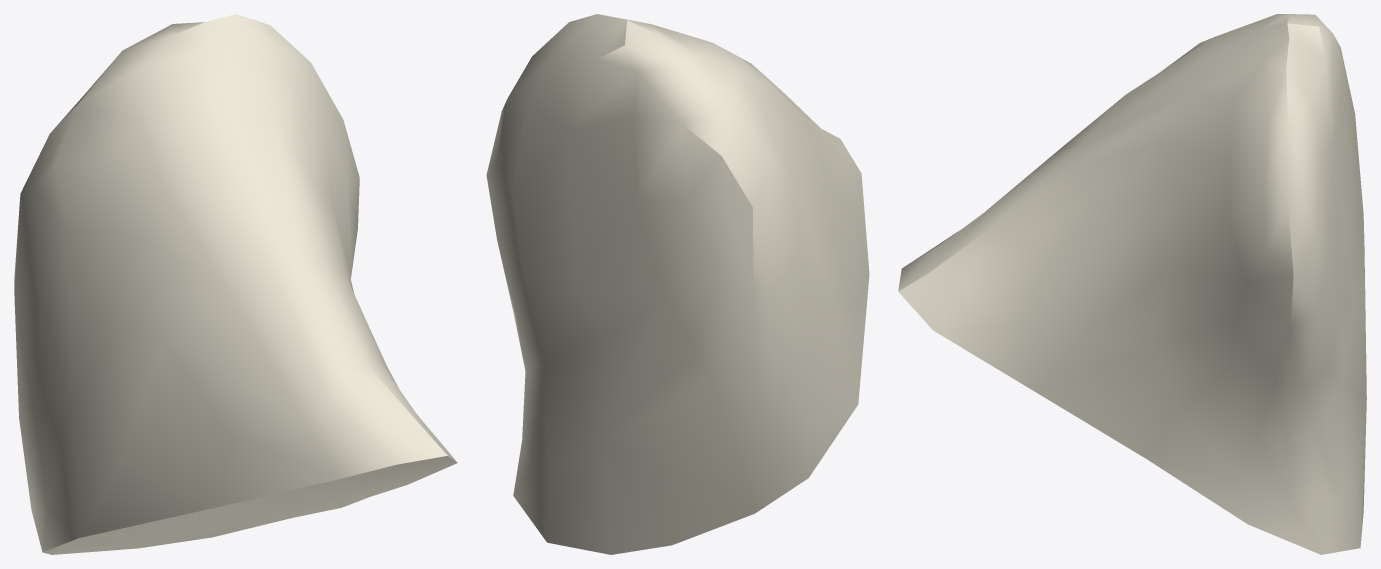
File: fma12121_mm2388.glb
3 renders of one model, left to right at view 1: azimuth 30°, elevation 25°; view 2: azimuth 150°, elevation 25°; view 3: azimuth 270°, elevation 25°, orthographic. The views are drawn at different scales.
Visible parts, largest first — view 1: FMA12121_MM2388; view 2: FMA12121_MM2388; view 3: FMA12121_MM2388.
Boxes of the visible parts, x1=… form: FMA12121_MM2388: x1=14, y1=14, x2=457, y2=554; FMA12121_MM2388: x1=486, y1=14, x2=869, y2=554; FMA12121_MM2388: x1=898, y1=14, x2=1366, y2=554.
Bounding box in the file's own units: 0.00674 × 0.0105 × 0.00885.
